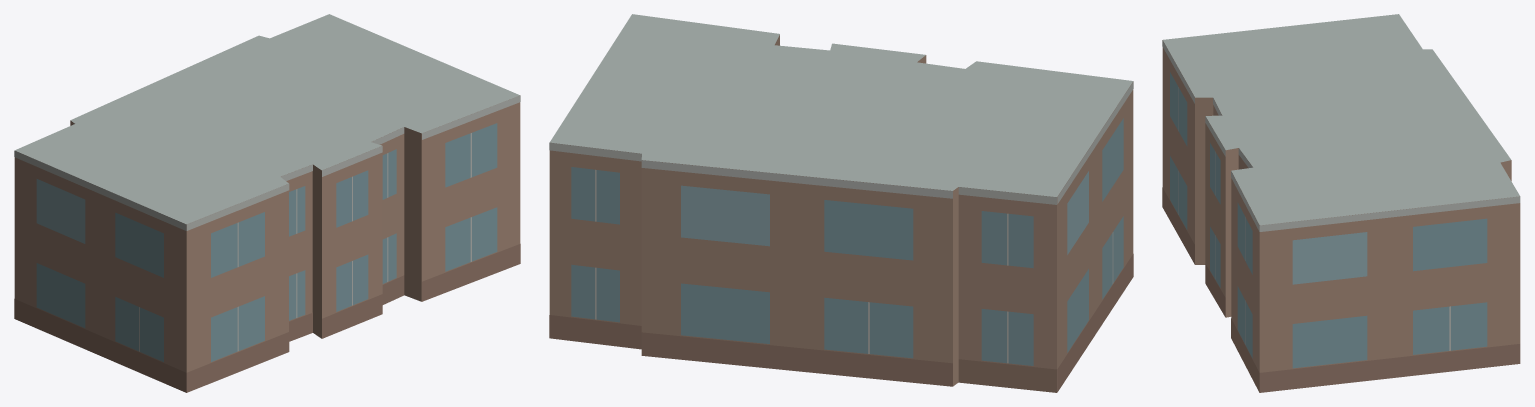
Rendered from survey-upis-32624093.glb.
3 views of the same model, side by side, from view 1: azimuth 30°, elevation 25°; view 2: azimuth 150°, elevation 25°; view 3: azimuth 270°, elevation 25° (orthographic). The views are drawn at different scales.
Parts seen in each view (by area): view 1: survey-upis-32624093.tmp; view 2: survey-upis-32624093.tmp; view 3: survey-upis-32624093.tmp.
Boxes of the visible parts, box(x1,y1,x2,y2) form: survey-upis-32624093.tmp: box(14, 14, 520, 392); survey-upis-32624093.tmp: box(549, 14, 1133, 392); survey-upis-32624093.tmp: box(1162, 14, 1520, 392).
Bounding box in the file's own units: 16.53 × 6.1 × 11.82.
